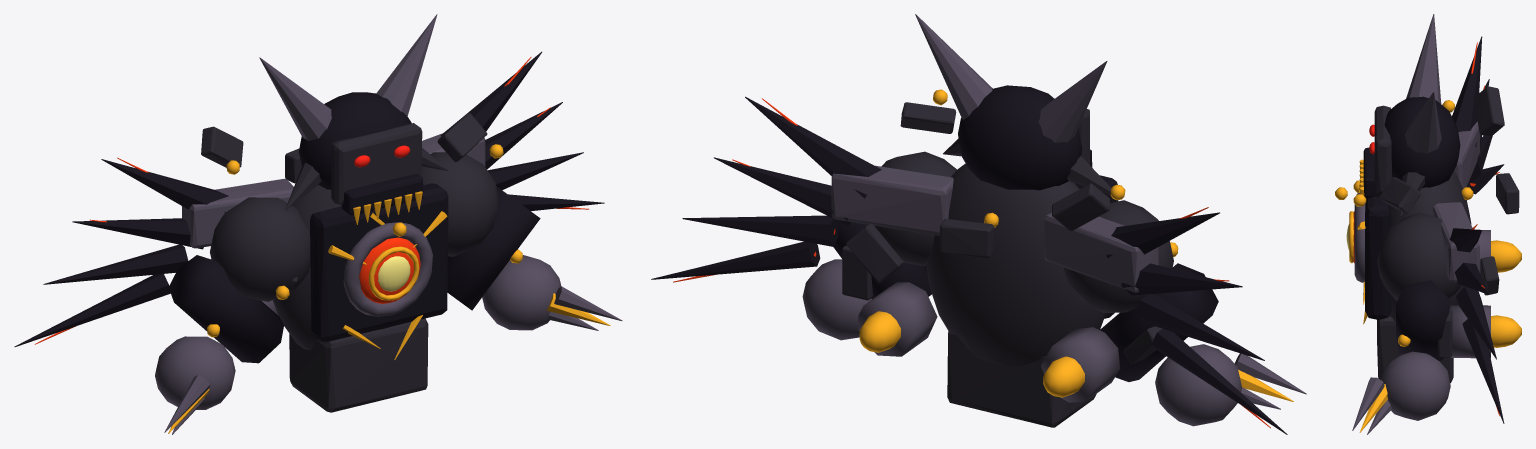
File: guardian_lava_gigante_optimized.obj
The picture shows the model from 3 angles, left to right: view 1: azimuth 30°, elevation 25°; view 2: azimuth 150°, elevation 25°; view 3: azimuth 270°, elevation 25°; orthographic projection. The views are drawn at different scales.
Visible parts, largest first — view 1: Guardian_Chest_Plate, Guardian_Abdomen, Guardian_Shoulder_-1, Guardian_Upper_Arm_-1, Guardian_Shoulder_1, Guardian_Upper_Arm_1, Guardian_Face, Guardian_Fist_1, Guardian_Fist_-1, Guardian_Head, Guardian_Core_Frame, Guardian_Torso (+21 smaller); view 2: Guardian_Torso, Guardian_Head, Guardian_Wing_Root_1, Guardian_Abdomen, Guardian_Wing_Root_-1, Guardian_Fist_-1, Guardian_Upper_Arm_-1, Guardian_Fist_1, Guardian_Thruster_-1, Guardian_Thruster_1, Guardian_Shoulder_-1, Guardian_Wing_Blade_1_2 (+21 smaller); view 3: Guardian_Shoulder_1, Guardian_Head, Guardian_Fist_1, Guardian_Upper_Arm_1, Guardian_Chest_Plate, Guardian_Wing_Root_1, Guardian_Torso, Guardian_Main_Horn_-1, Guardian_Main_Horn_1, Guardian_Face, Guardian_Wing_Blade_-1_0, Guardian_Abdomen (+23 smaller).
Boxes of the visible parts, <box> form: Guardian_Chest_Plate: <box>310,183,448,341</box>; Guardian_Abdomen: <box>289,318,428,412</box>; Guardian_Shoulder_-1: <box>210,197,310,301</box>; Guardian_Upper_Arm_-1: <box>168,255,283,363</box>; Guardian_Shoulder_1: <box>421,152,499,256</box>; Guardian_Upper_Arm_1: <box>447,186,540,310</box>; Guardian_Face: <box>331,123,422,204</box>; Guardian_Fist_1: <box>482,255,561,330</box>; Guardian_Fist_-1: <box>155,336,235,409</box>; Guardian_Head: <box>299,92,411,189</box>; Guardian_Core_Frame: <box>343,222,432,316</box>; Guardian_Torso: <box>273,185,389,350</box>; Guardian_Torso: <box>926,163,1105,367</box>; Guardian_Head: <box>958,85,1082,190</box>; Guardian_Wing_Root_1: <box>831,165,953,235</box>; Guardian_Abdomen: <box>947,329,1096,427</box>; Guardian_Wing_Root_-1: <box>1044,212,1158,292</box>; Guardian_Fist_-1: <box>1155,344,1241,426</box>; Guardian_Upper_Arm_-1: <box>1100,263,1218,381</box>; Guardian_Fist_1: <box>802,259,871,340</box>; Guardian_Thruster_-1: <box>1041,327,1119,402</box>; Guardian_Thruster_1: <box>858,282,937,356</box>; Guardian_Shoulder_-1: <box>1064,200,1173,312</box>; Guardian_Wing_Blade_1_2: <box>682,215,838,246</box>; Guardian_Shoulder_1: <box>1377,212,1461,300</box>; Guardian_Head: <box>1384,96,1460,188</box>; Guardian_Fist_1: <box>1381,351,1450,420</box>; Guardian_Upper_Arm_1: <box>1396,280,1449,361</box>; Guardian_Chest_Plate: <box>1365,196,1391,319</box>; Guardian_Wing_Root_1: <box>1433,202,1480,282</box>; Guardian_Torso: <box>1390,171,1471,322</box>; Guardian_Main_Horn_-1: <box>1406,14,1441,103</box>; Guardian_Main_Horn_1: <box>1405,92,1441,153</box>; Guardian_Face: <box>1374,105,1392,193</box>; Guardian_Wing_Blade_-1_0: <box>1452,36,1482,146</box>; Guardian_Abdomen: <box>1377,316,1453,382</box>.
Bounding box in the file's own units: 83.03 × 46.53 × 25.27.
